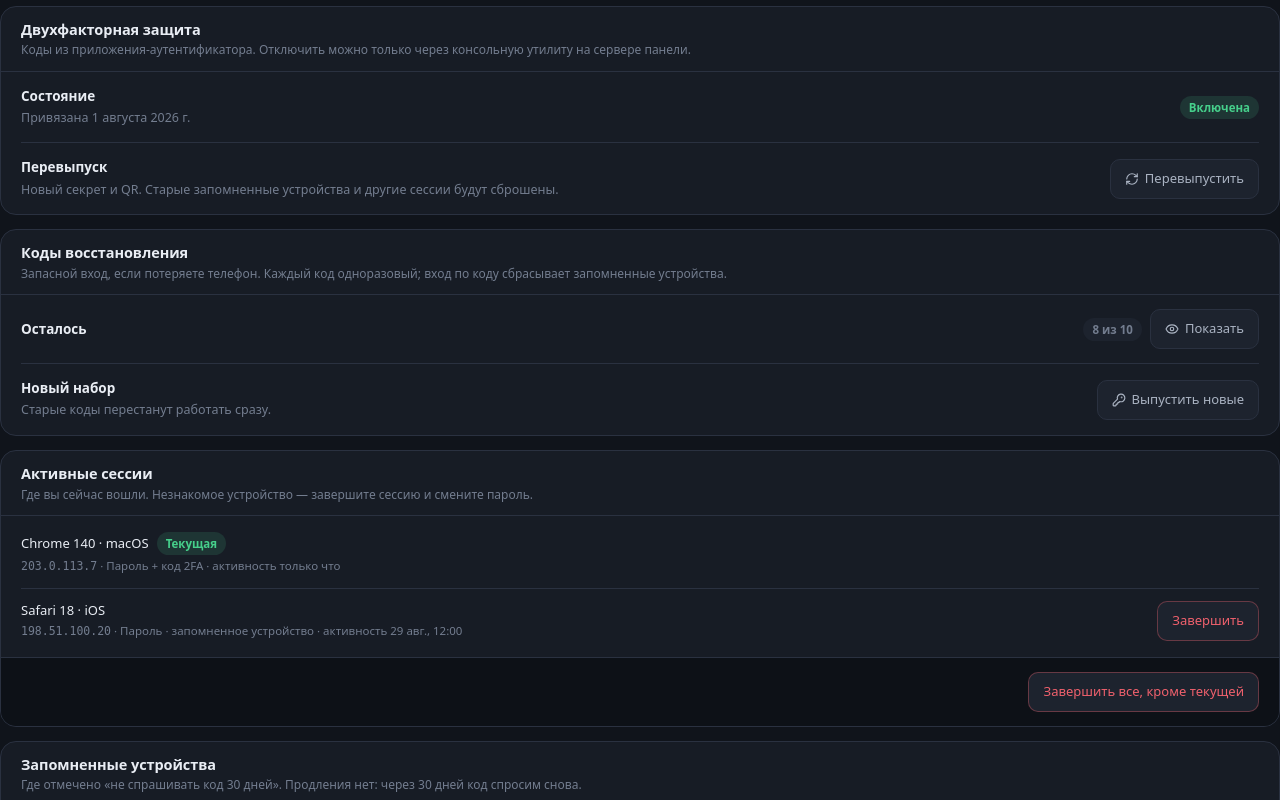
Test: SecurityPage › новые коды восстановления: подтверждение → 10 кодов, закрыть можно только после галочки
(page scrolled)
Click the button "Выпустить новые" at (1178, 400), box x1=1096 y1=380 x2=1259 y2=420
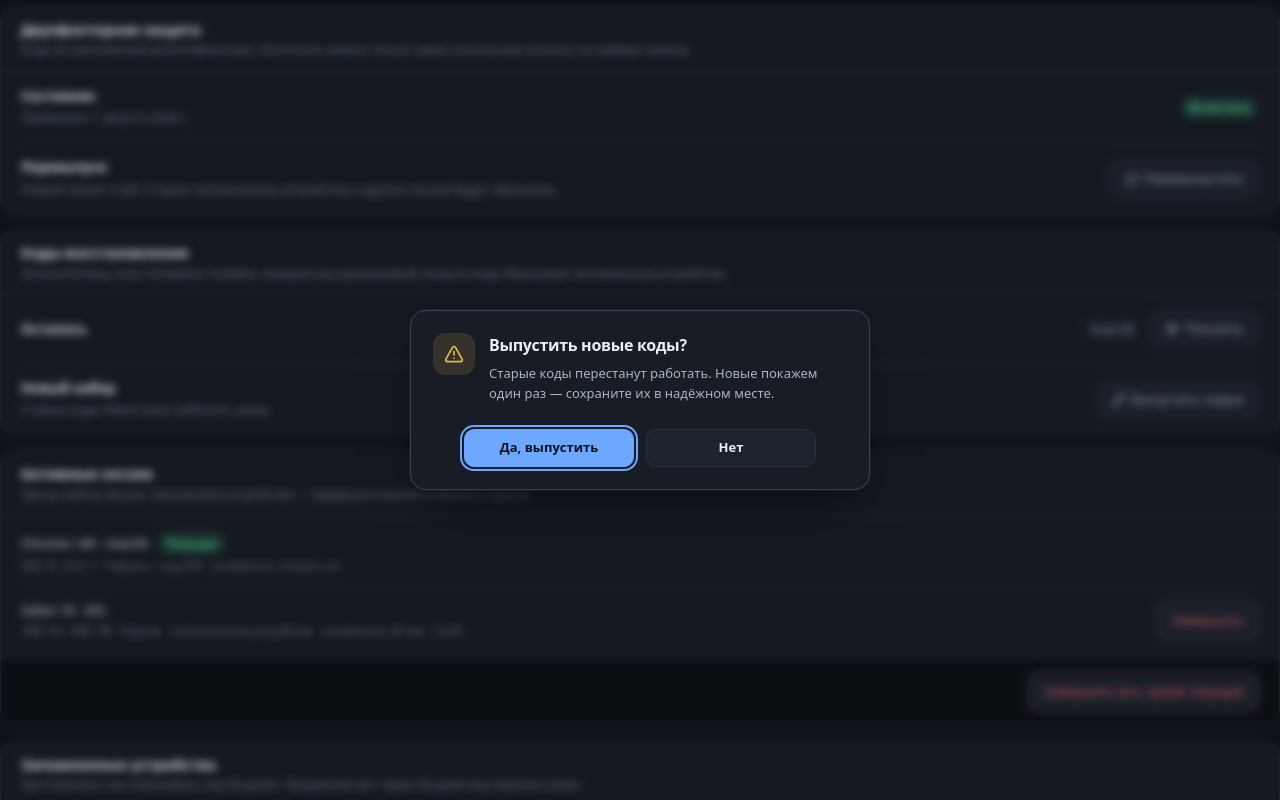
Click the button "Да, выпустить" at (549, 448), box x1=464 y1=429 x2=634 y2=467
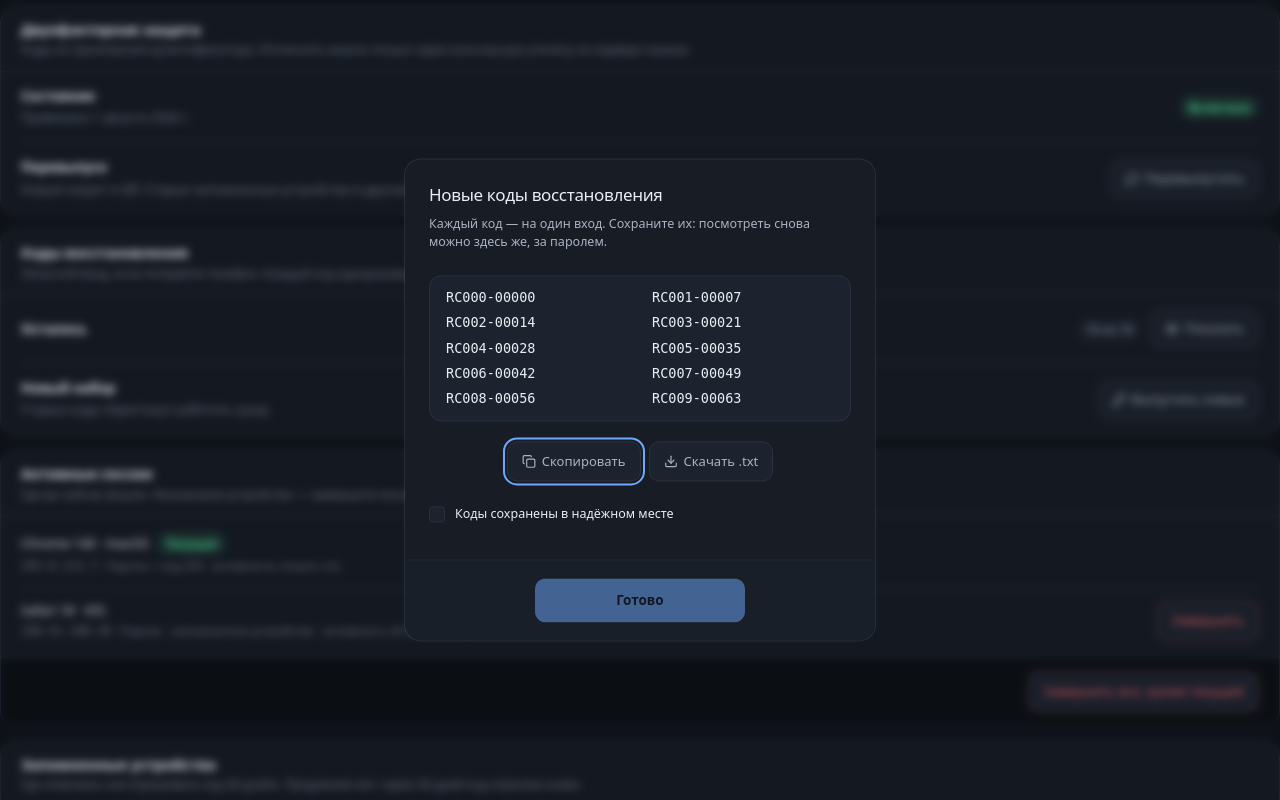
Expected: the button "Готово" is disabled, x1=535 y1=579 x2=745 y2=623
Click the checkbox named "Коды сохранены в надёжном месте" at (437, 515), box x1=429 y1=507 x2=445 y2=523
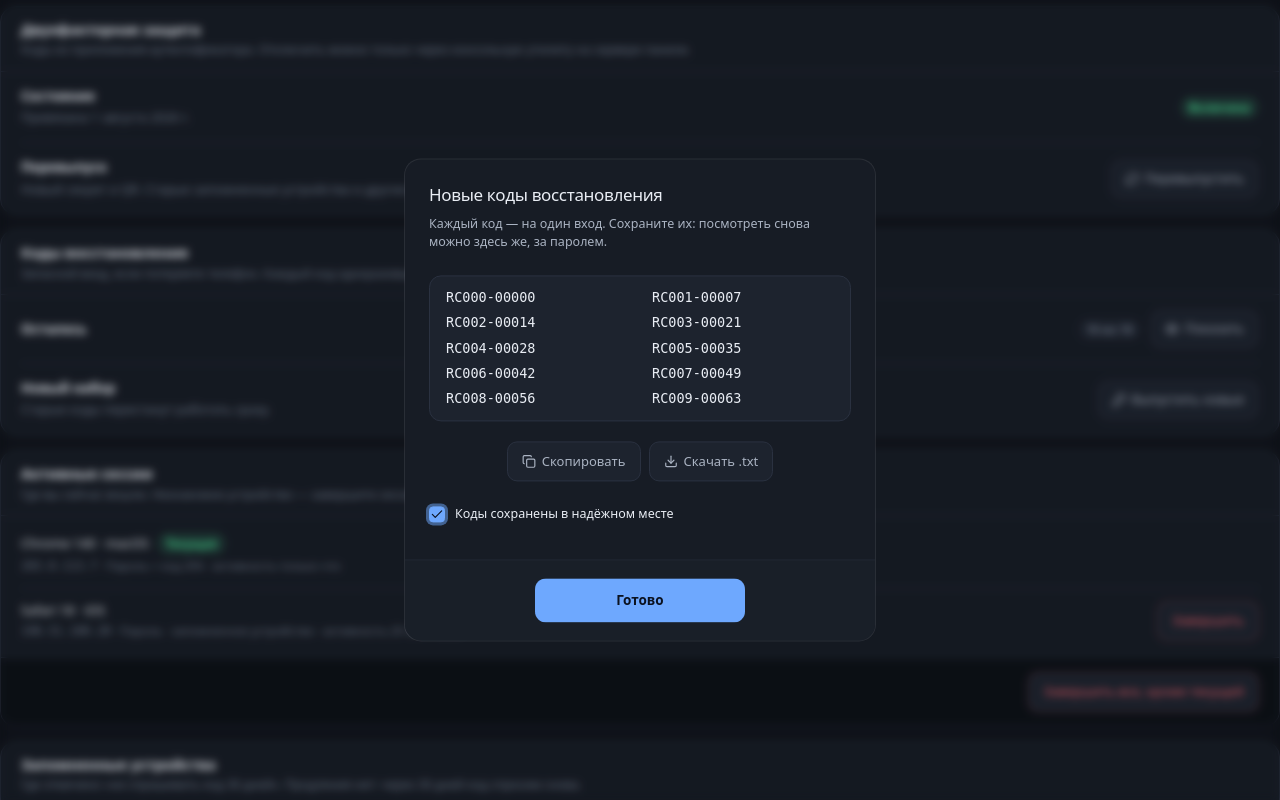
Click the button "Готово" at (640, 601), box x1=535 y1=579 x2=745 y2=623
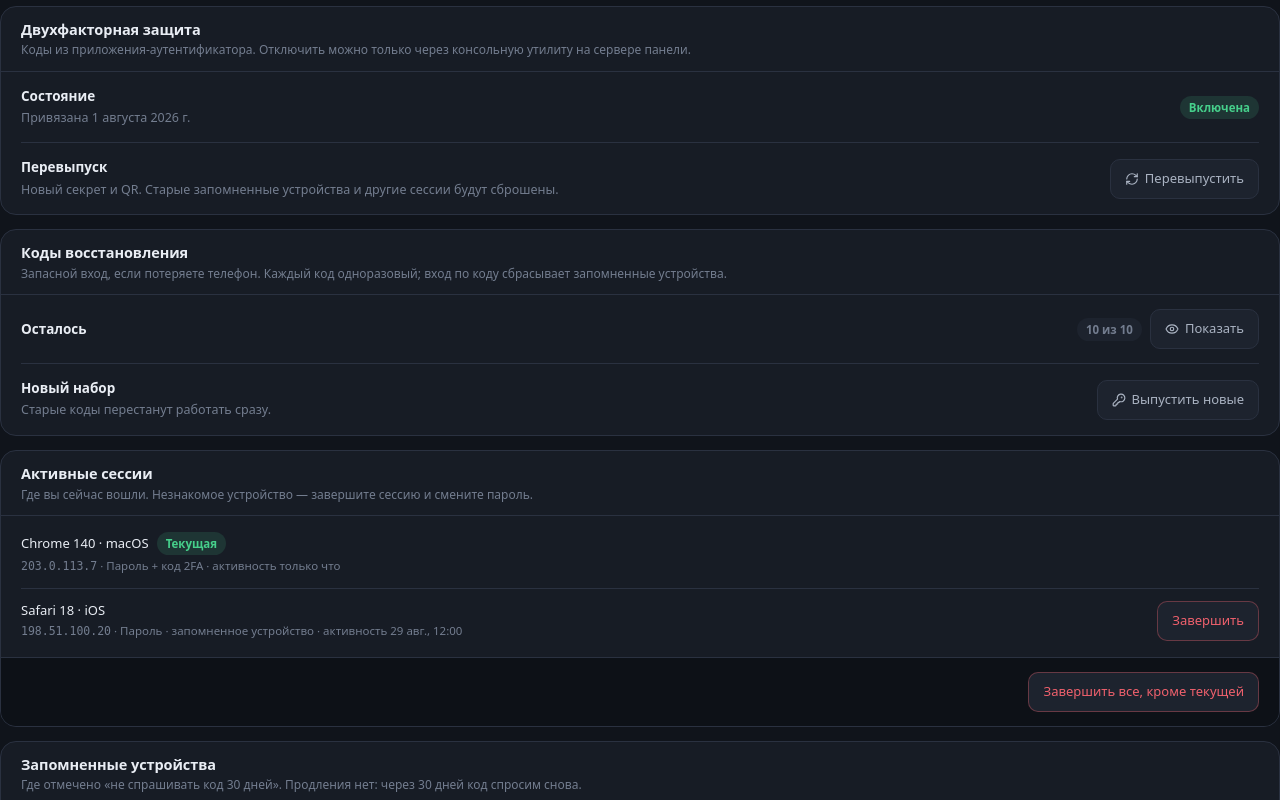
Expected: the list with test id "recovery-codes" is gone
